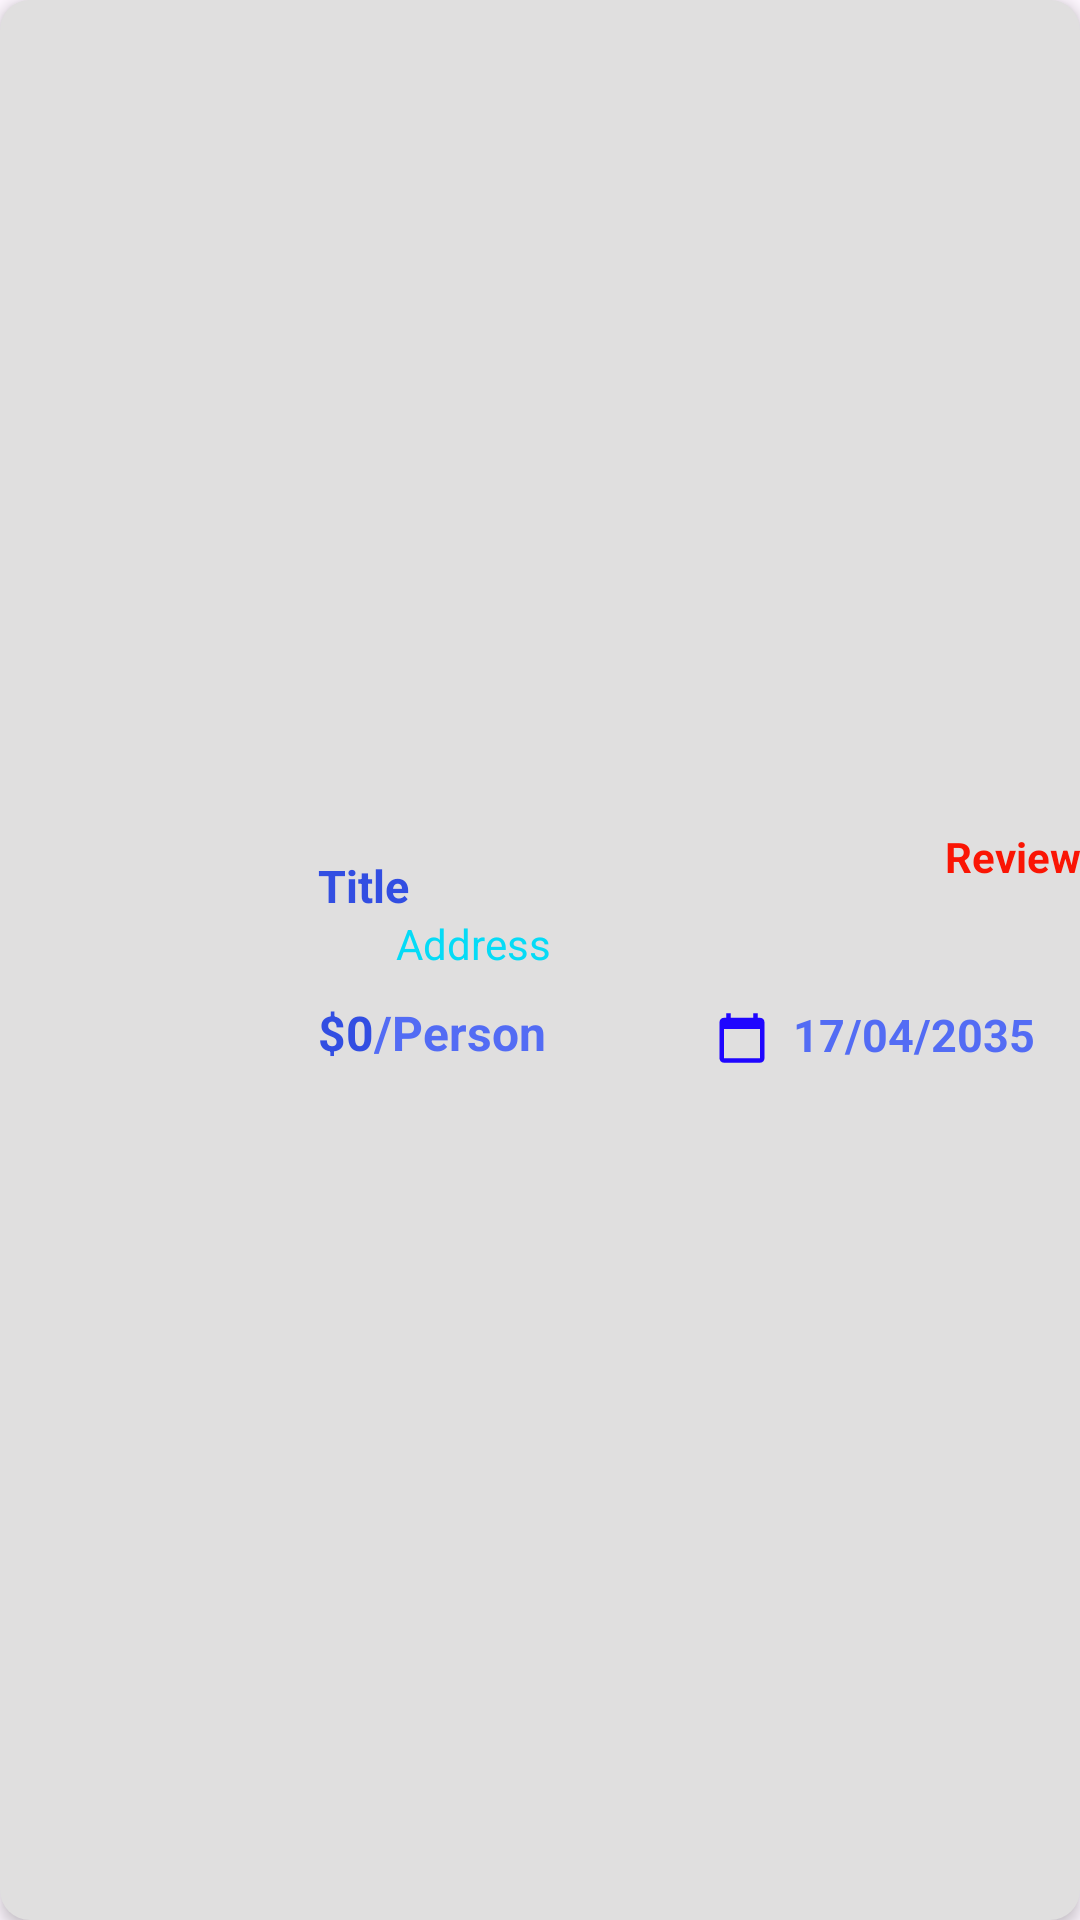

Icons on this 1080px x 1920px Android screen, each with its box as bbox=[x1, y1, x2, y2]:
calendar: bbox=[719, 1013, 765, 1063]
